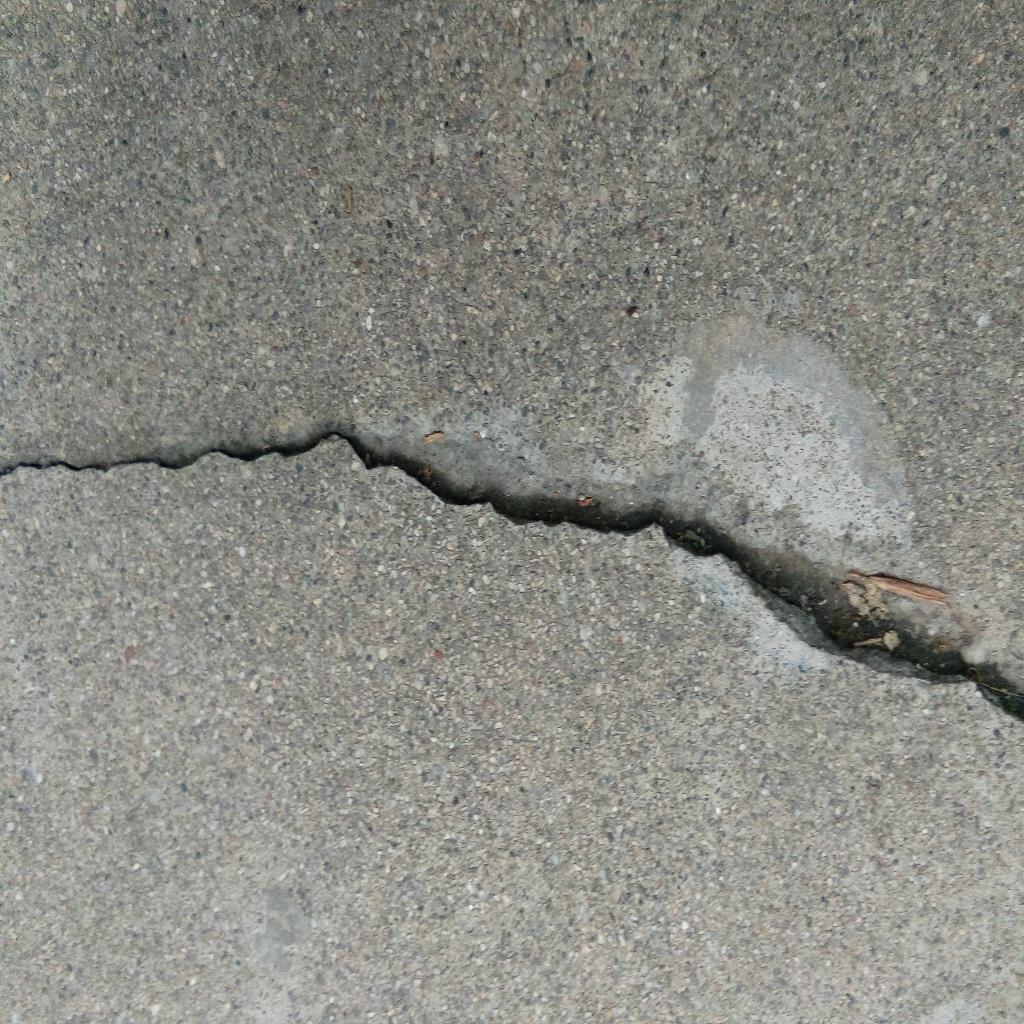Crack: (1, 430, 1024, 724)
